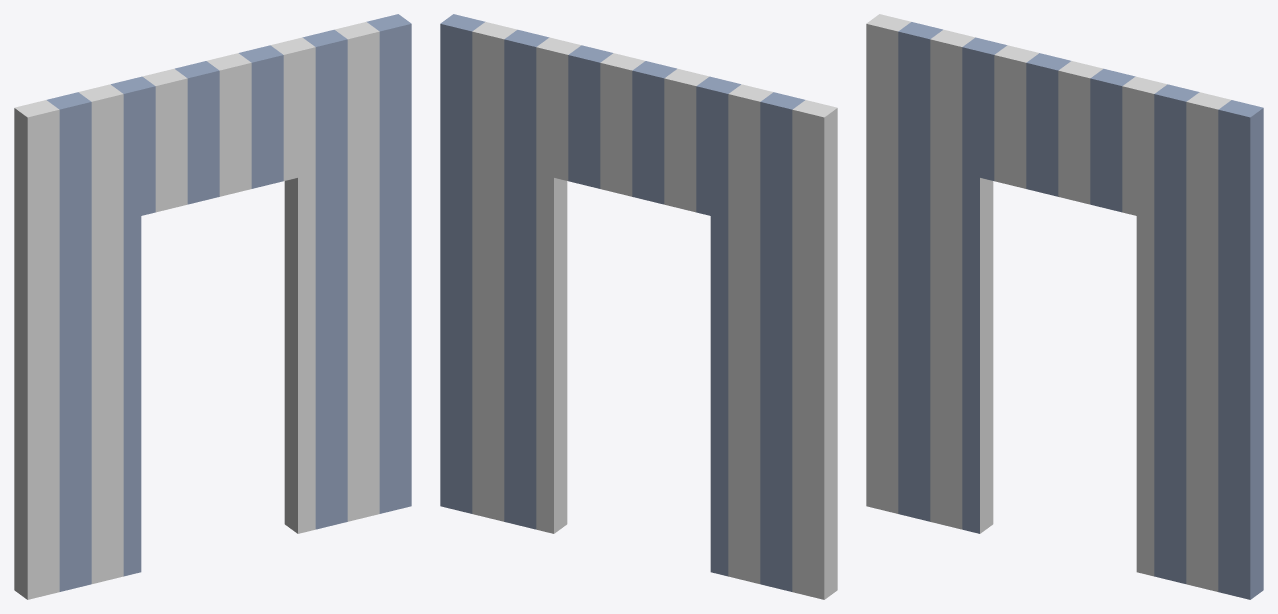
File: Wall3_C8_17.fbx
3 renders of one model, left to right at view 1: azimuth 30°, elevation 25°; view 2: azimuth 150°, elevation 25°; view 3: azimuth 330°, elevation 25°, orthographic.
Parts seen in each view (by area): view 1: Wall3_C8_17; view 2: Wall3_C8_17; view 3: Wall3_C8_17.
Boxes of the visible parts, left/top/right/bottom form: Wall3_C8_17: left=14, top=14, right=411, bottom=599; Wall3_C8_17: left=440, top=14, right=837, bottom=599; Wall3_C8_17: left=866, top=14, right=1263, bottom=599.
Bounding box in the file's own units: 250 × 300 × 15.
